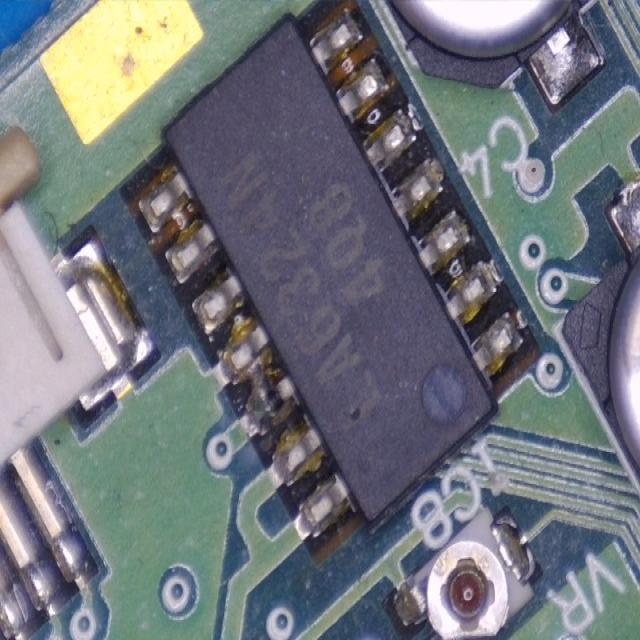Short_circuit: (232, 323, 296, 436)
